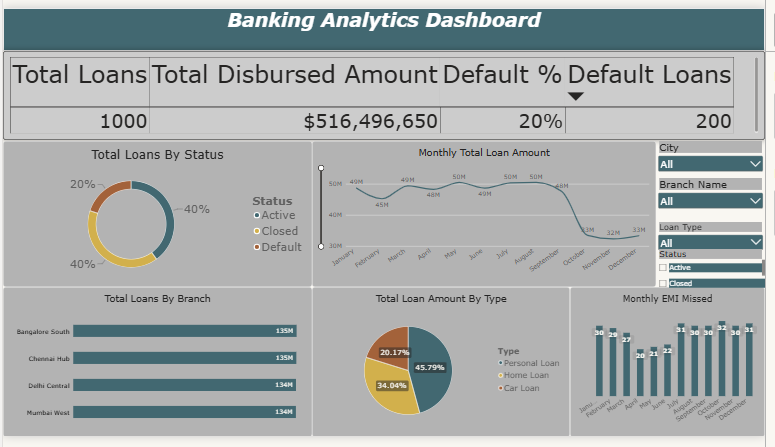

What the dashboard file says about the page in this screenshot:
{"tool":"powerbi","page":{"name":"Page 1","canvas":[1920,1080],"ordinal":0},"visuals":[{"type":"textbox","title":"Banking Analytics Dashboard","box":[0,0,1920,108.3],"z":0},{"type":"tableEx","fields":{"Values":["_Measures.Total Loans","_Measures.Total Disbursed Amount","_Measures.Default %","_Measures.Default Loans"]},"box":[0,108.3,1920,224.3],"z":1000},{"type":"donutChart","title":"Total Loans By Status","fields":{"Category":["Loan_Fact.status"],"Y":["_Measures.Total Loans"]},"box":[0,335.1,778.6,367.9],"z":2000},{"type":"lineChart","title":"Monthly Total Loan Amount","fields":{"Category":["Loan_Fact.disbursement_date.Variation.Date Hierarchy.Month"],"Y":["Sum(Loan_Fact.loan_amount)"]},"box":[778.6,335.1,866.8,367.9],"z":3000},{"type":"barChart","title":"Total Loans By Branch","fields":{"Category":["Branch_Dim.branch_name"],"Y":["Sum(Loan_Fact.loan_amount)"]},"box":[0,703,778.6,378],"z":4000},{"type":"pieChart","title":"Total Loan Amount By Type","fields":{"Category":["Loan_Fact.loan_type"],"Y":["Sum(Loan_Fact.loan_amount)"]},"box":[778.6,703,650.1,378],"z":5000},{"type":"columnChart","title":"Monthly EMI Missed","fields":{"Category":["Emi_Dim.payment_date.Variation.Date Hierarchy.Month"],"Y":["_Measures.EMI Missed"]},"box":[1428.7,703,491.3,378],"z":6000},{"type":"slicer","fields":{"Values":["Customers_Dim.city"]},"box":[1645.4,335.1,274.6,93.2],"z":7000},{"type":"slicer","fields":{"Values":["Loan_Fact.loan_type"]},"box":[1645.4,539.2,274.6,83.1],"z":8000},{"type":"slicer","fields":{"Values":["Branch_Dim.branch_name"]},"box":[1645.4,428.3,274.6,110.9],"z":8001},{"type":"slicer","fields":{"Values":["Loan_Fact.status"]},"box":[1645.4,607.2,274.6,95.7],"z":8002}]}

Visuals, with their boxes in screenshot pixels (x1, y1, x2, y2), scaled from the page's 1920x1080 canvas onto the 775x447 screenshot:
"Banking Analytics Dashboard" textbox: rect(0, 0, 774, 45)
tableEx - _Measures.Total Loans x _Measures.Total Disbursed Amount: rect(0, 45, 774, 138)
"Total Loans By Status" donutChart: rect(0, 139, 314, 291)
"Monthly Total Loan Amount" lineChart: rect(314, 139, 664, 291)
"Total Loans By Branch" barChart: rect(0, 291, 314, 446)
"Total Loan Amount By Type" pieChart: rect(314, 291, 577, 446)
"Monthly EMI Missed" columnChart: rect(577, 291, 774, 446)
slicer - Customers_Dim.city: rect(664, 139, 774, 177)
slicer - Loan_Fact.loan_type: rect(664, 223, 774, 258)
slicer - Branch_Dim.branch_name: rect(664, 177, 774, 223)
slicer - Loan_Fact.status: rect(664, 251, 774, 291)
